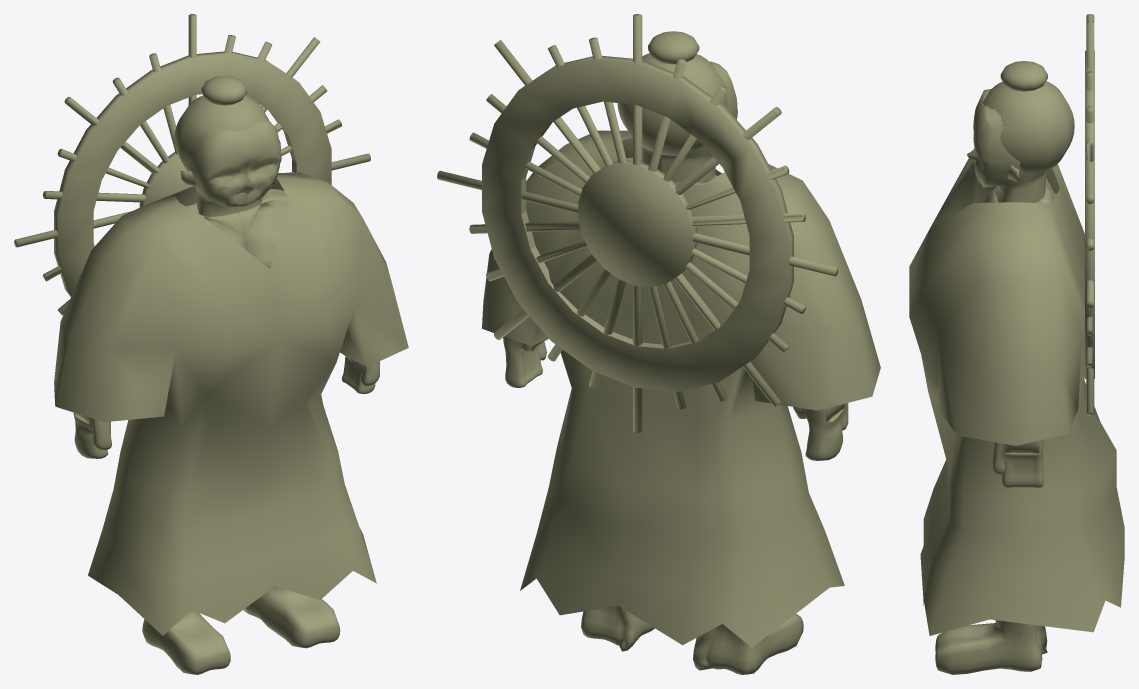
File: syaka.fbx
3 views of the same model, side by side, from view 1: azimuth 30°, elevation 25°; view 2: azimuth 150°, elevation 25°; view 3: azimuth 270°, elevation 25° (orthographic). The views are drawn at different scales.
Parts seen in each view (by area): view 1: 服, obj20, 体1, 顔, 頭, 頭２; view 2: 服, obj20, 体1, 頭, 顔, 頭２; view 3: 服, 体1, 頭, obj20, 顔, 頭２.
Boxes of the visible parts, x1=… form: 服: x1=54, y1=172, x2=408, y2=635; obj20: x1=14, y1=14, x2=370, y2=315; 体1: x1=73, y1=189, x2=379, y2=674; 顔: x1=187, y1=116, x2=281, y2=216; 頭: x1=174, y1=95, x2=268, y2=170; 頭２: x1=201, y1=76, x2=246, y2=105; 服: x1=482, y1=130, x2=880, y2=647; obj20: x1=437, y1=14, x2=838, y2=432; 体1: x1=503, y1=157, x2=848, y2=674; 頭: x1=617, y1=53, x2=727, y2=155; 顔: x1=642, y1=61, x2=737, y2=182; 頭２: x1=648, y1=31, x2=699, y2=64; 服: x1=909, y1=148, x2=1124, y2=635; 体1: x1=935, y1=177, x2=1056, y2=674; 頭: x1=981, y1=81, x2=1074, y2=173; obj20: x1=1085, y1=14, x2=1094, y2=415; 顔: x1=967, y1=88, x2=1046, y2=202; 頭２: x1=1000, y1=61, x2=1047, y2=91.
Bounding box in the file's own units: 115 × 184 × 58.43.
